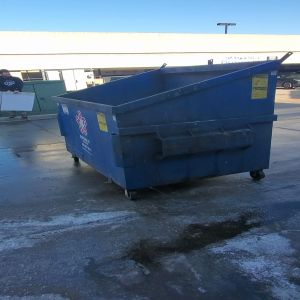Dumpster: (56, 60, 282, 201)
Person: (1, 67, 24, 91)
